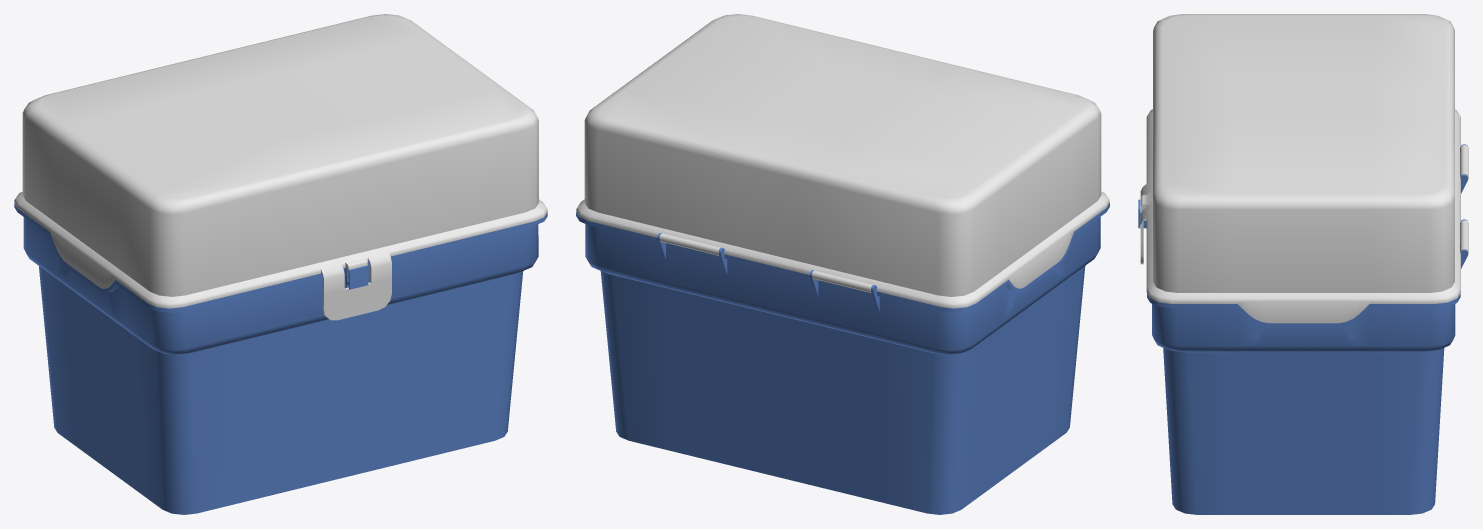
Rendered from pipet_box.fbx.
The picture shows the model from 3 angles, left to right: view 1: azimuth 30°, elevation 25°; view 2: azimuth 150°, elevation 25°; view 3: azimuth 270°, elevation 25°; orthographic projection.
Parts seen in each view (by area): view 1: pipet_box_cap, pipet_box; view 2: pipet_box_cap, pipet_box; view 3: pipet_box_cap, pipet_box.
Part boxes in pixels (x1,y1,x2,y2): pipet_box_cap: (14, 14, 547, 320); pipet_box: (14, 203, 547, 514); pipet_box_cap: (576, 14, 1109, 308); pipet_box: (576, 203, 1109, 514); pipet_box_cap: (1140, 14, 1468, 323); pipet_box: (1138, 144, 1467, 514).
Size of the model in its own units: 12.08 by 9.38 by 8.62.
